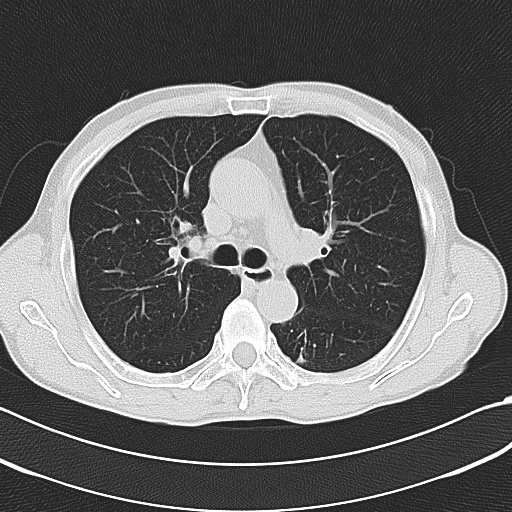non-cancer: (147, 196, 226, 283), (284, 333, 320, 365)
